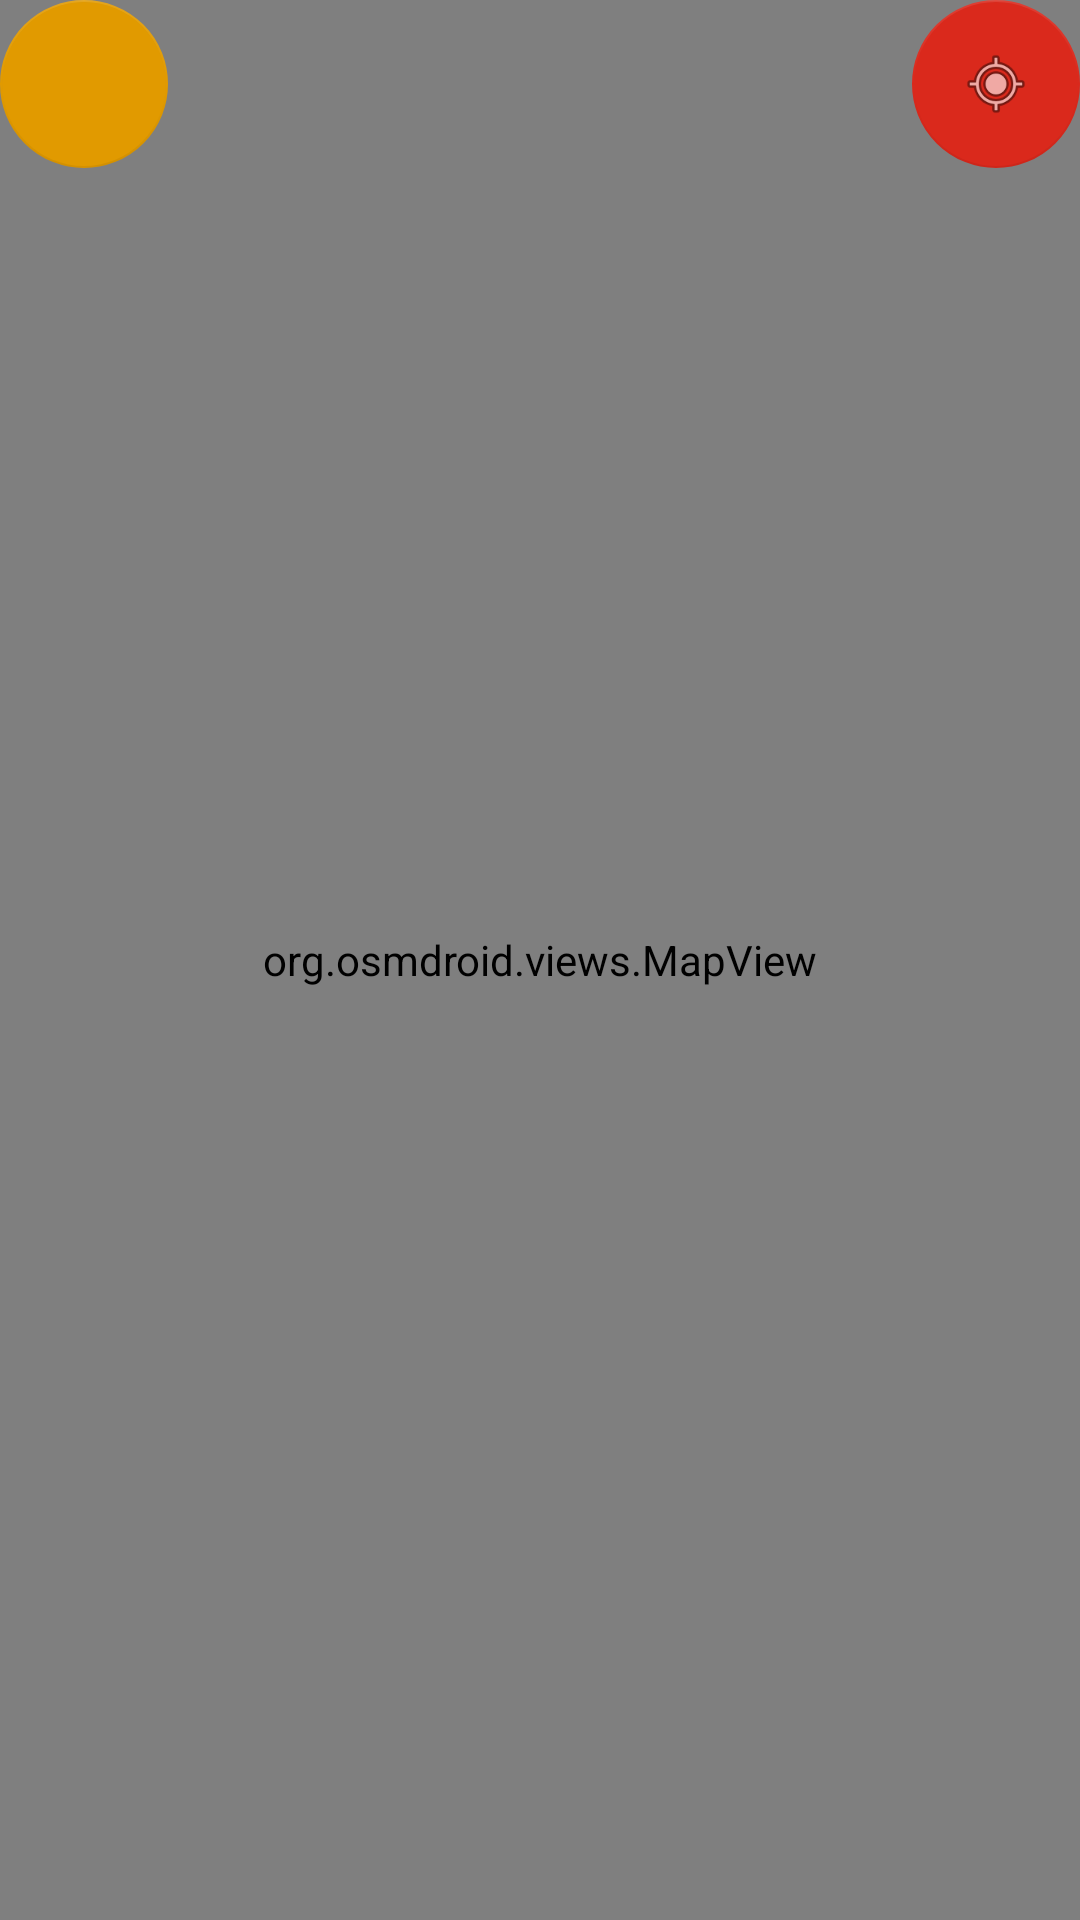

Screen size 1080px×1920px. Icon name, then its box in pixels as (x1, y1, x2, y2):
mylocation: (912, 0, 1080, 168)
